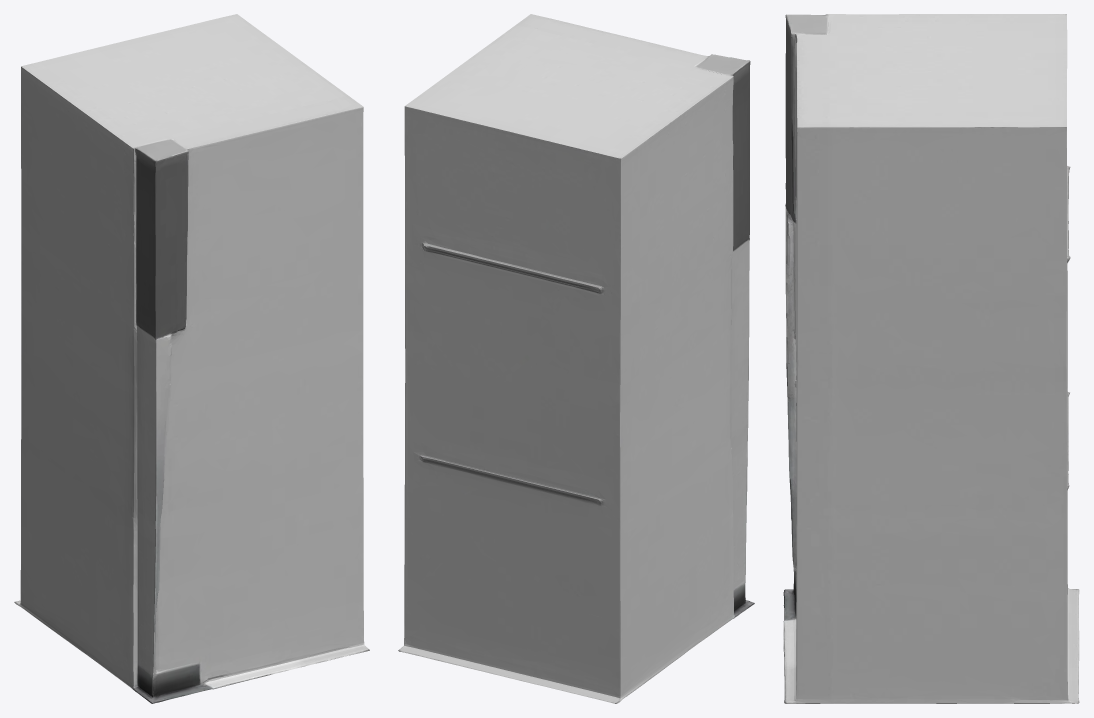
Rendered from b73736d1-0d68-41c9-b2b0-febc03ba6253.glb.
3 views of the same model, side by side, from view 1: azimuth 30°, elevation 25°; view 2: azimuth 150°, elevation 25°; view 3: azimuth 270°, elevation 25° (orthographic). The views are drawn at different scales.
Parts seen in each view (by area): view 1: world; view 2: world; view 3: world.
Part boxes in pixels (left/top/right/bottom): world: left=14, top=14, right=369, bottom=703; world: left=398, top=14, right=754, bottom=703; world: left=783, top=14, right=1079, bottom=703.
Size of the model in its own units: 0.423 by 1 by 0.464.
Materials: 1 (1 with a texture image).
